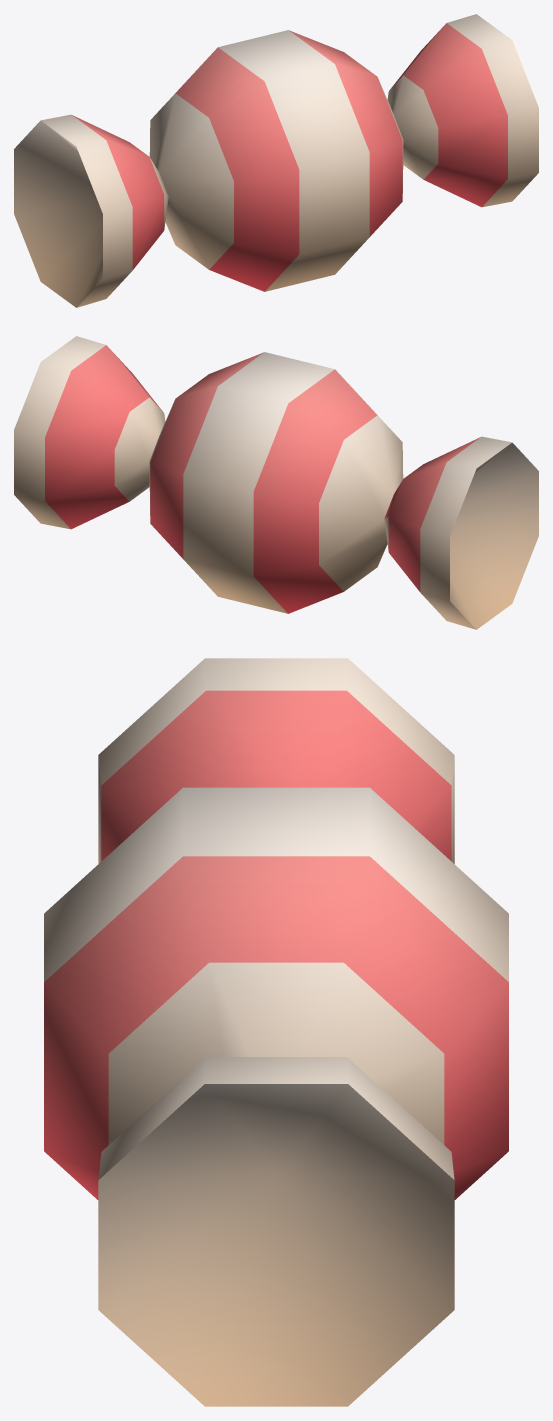
Rendered from candy_pink_A.gltf.
3 renders of one model, top to bottom at view 1: azimuth 30°, elevation 25°; view 2: azimuth 150°, elevation 25°; view 3: azimuth 270°, elevation 25°, orthographic. The views are drawn at different scales.
Parts seen in each view (by area): view 1: candy_pink_A; view 2: candy_pink_A; view 3: candy_pink_A.
Part boxes in pixels (x1,y1,x2,y2): candy_pink_A: (14, 14, 538, 307); candy_pink_A: (14, 336, 538, 629); candy_pink_A: (44, 658, 508, 1406).
Bounding box in the file's own units: 0.65 × 0.3 × 0.3.
Materials: 1 (1 with a texture image).
